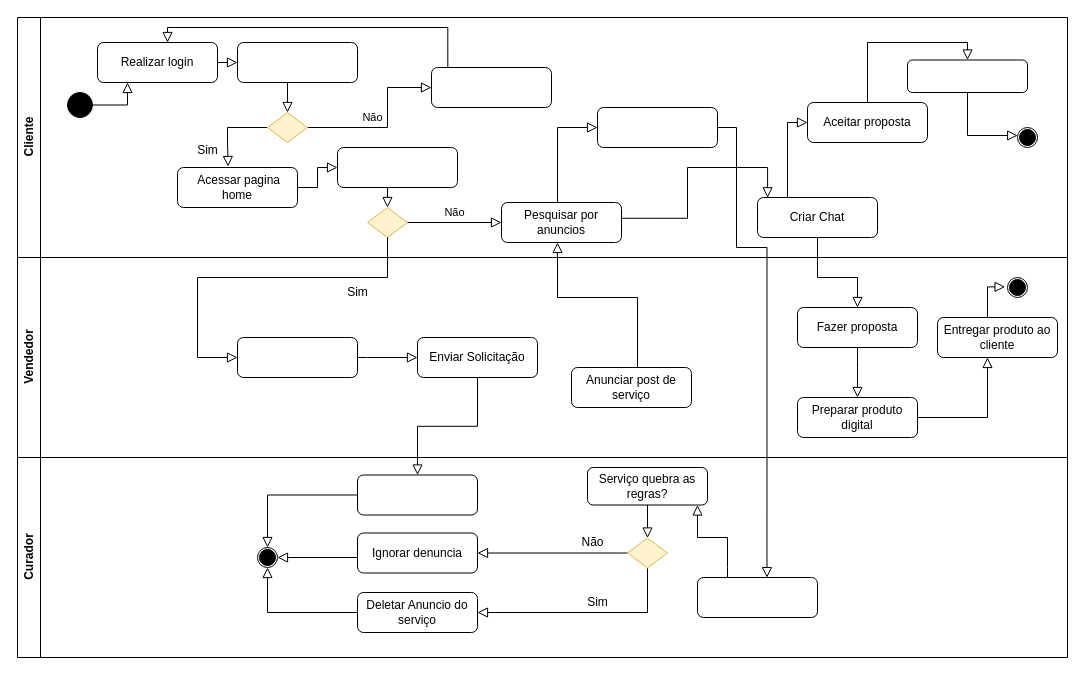
The diagram is 1085 pixels wide and 675 high, and some of its shapes have lost their labels. Each missing label, with the centre of its shape:
Avaliar Denuncia: [757,597]
Avaliar Solicitação: [417,494]
Cadastrar: [491,87]
Cadastrar CPF e PIX: [297,357]
Denunciar anuncio: [657,127]
Deseja se tornar um vendedor?: [397,167]
Realizar pagamento: [967,75]
Usuario possui conta cadastrada?: [297,62]
